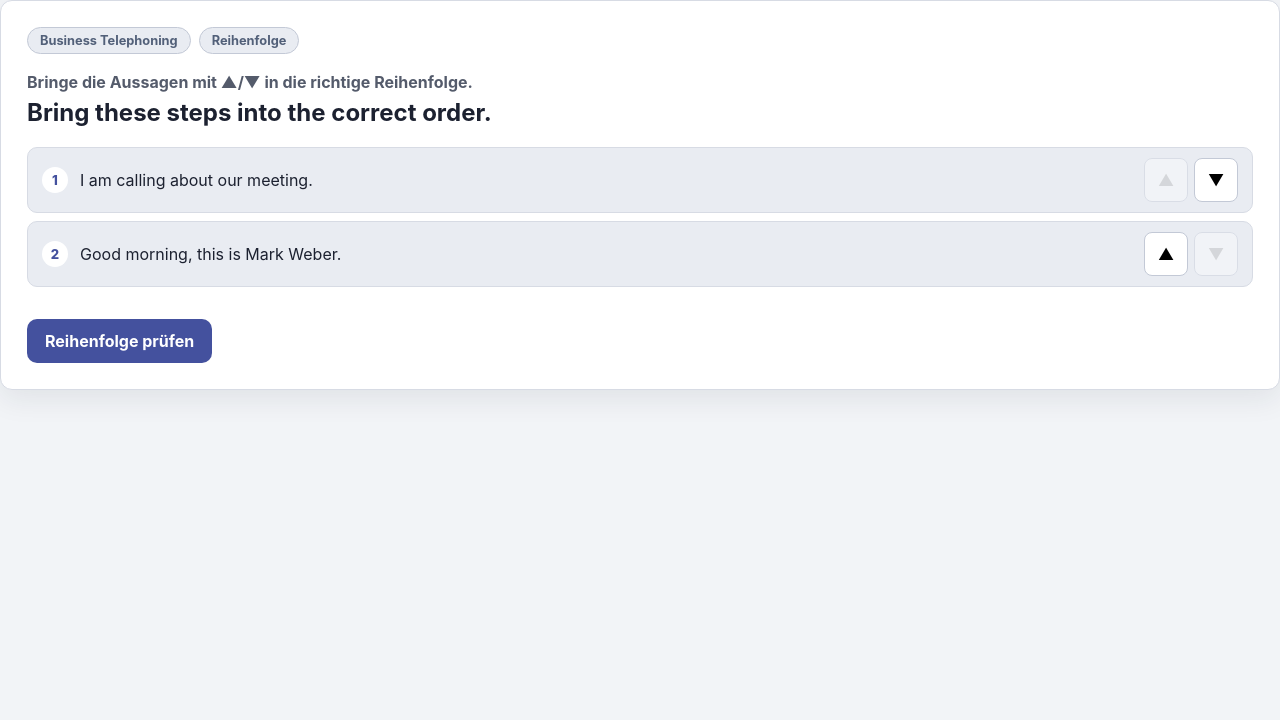
Test case: OrderedStepsTrainer - Auswertung › erkennt eine falsche Reihenfolge, zeigt Schritt-Feedback und die vollständige richtige Reihenfolge (Finding 2)
The width and height of the screenshot is (1280, 720).
Note: Ohne Umsortieren prüfen: der Start ist bereits garantiert falsch (Finding 1).
Click the button "Reihenfolge prüfen". click: {"x": 120, "y": 341}
box: [27, 319, 212, 363]
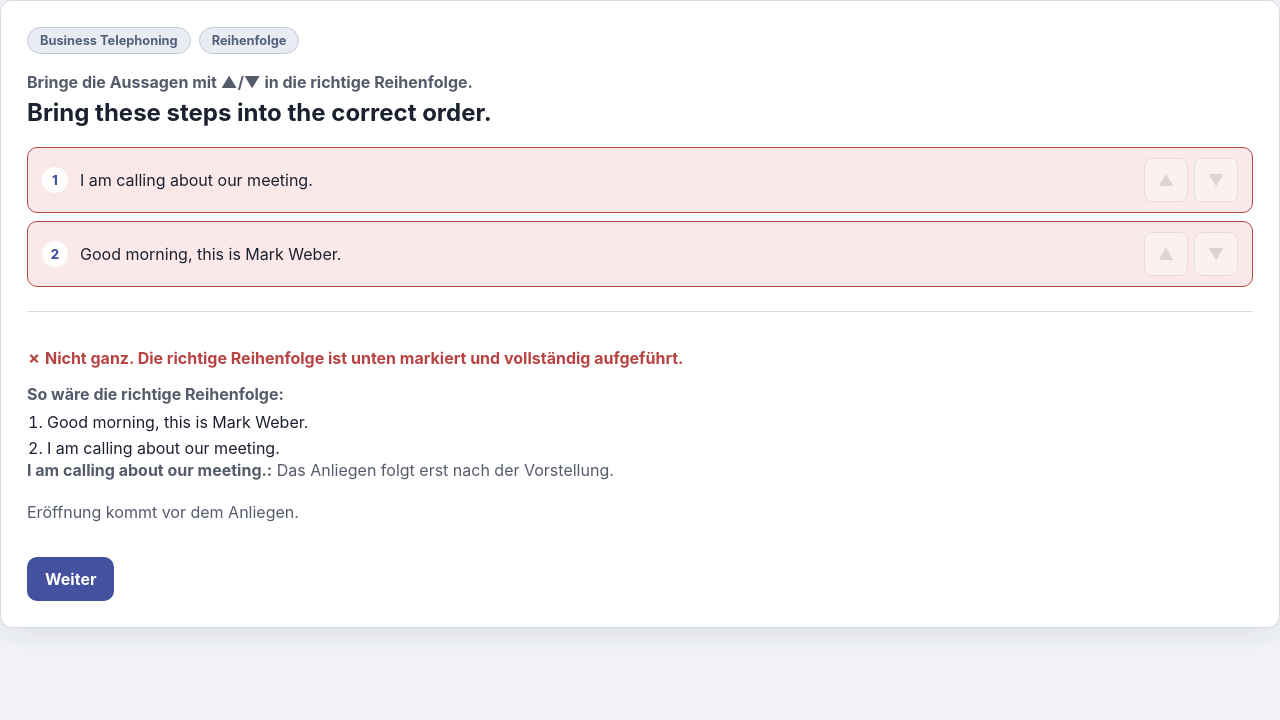
expect the element with class "feedback-wrong" is shown: met, box [27, 348, 683, 368]
expect the text "Das Anliegen folgt erst nach der Vorstellung." is shown: met, box [272, 460, 614, 480]
